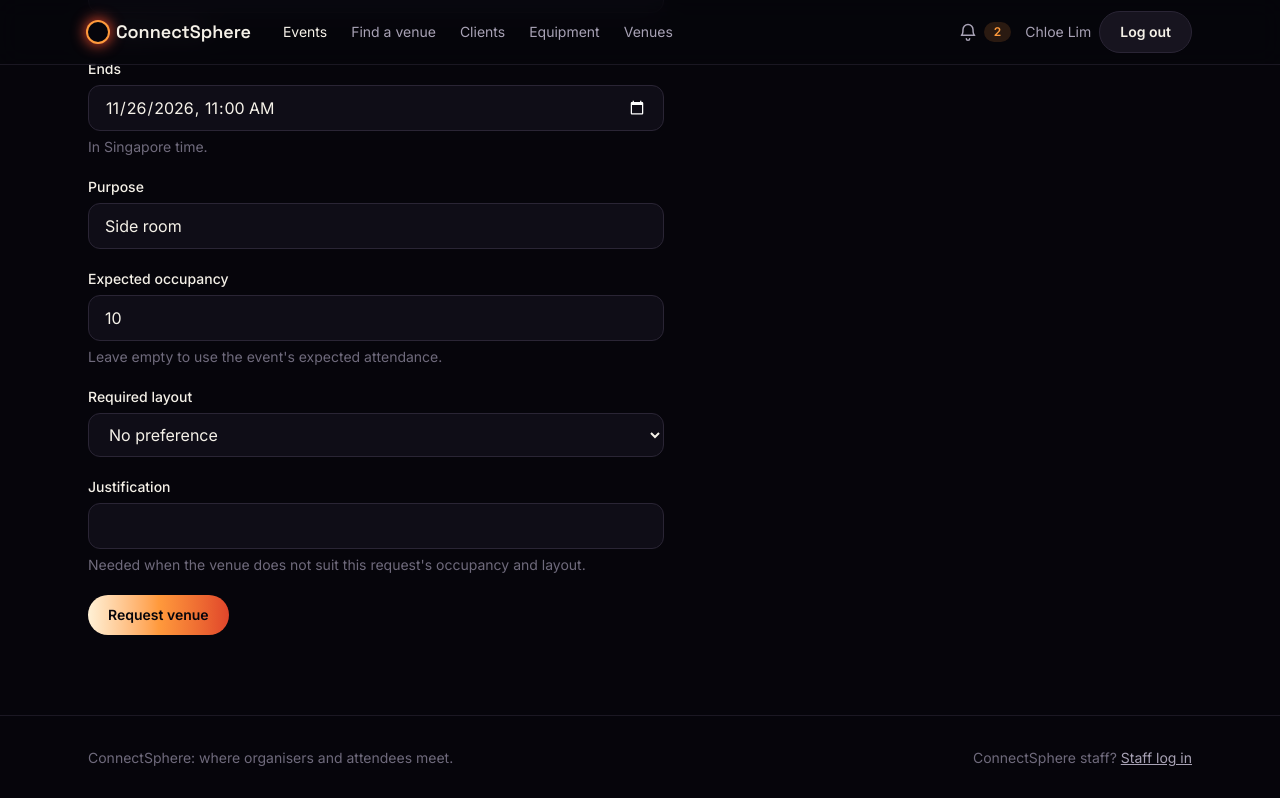
Test: SCRUM-92 raising a replacement for a flagged arrangement (AC6) › shows the backend’s refusal of an arrangement that needs no alternative venue
(page scrolled)
Click the button "Request venue": [158, 615] box x1=88 y1=595 x2=229 y2=635
(page scrolled)
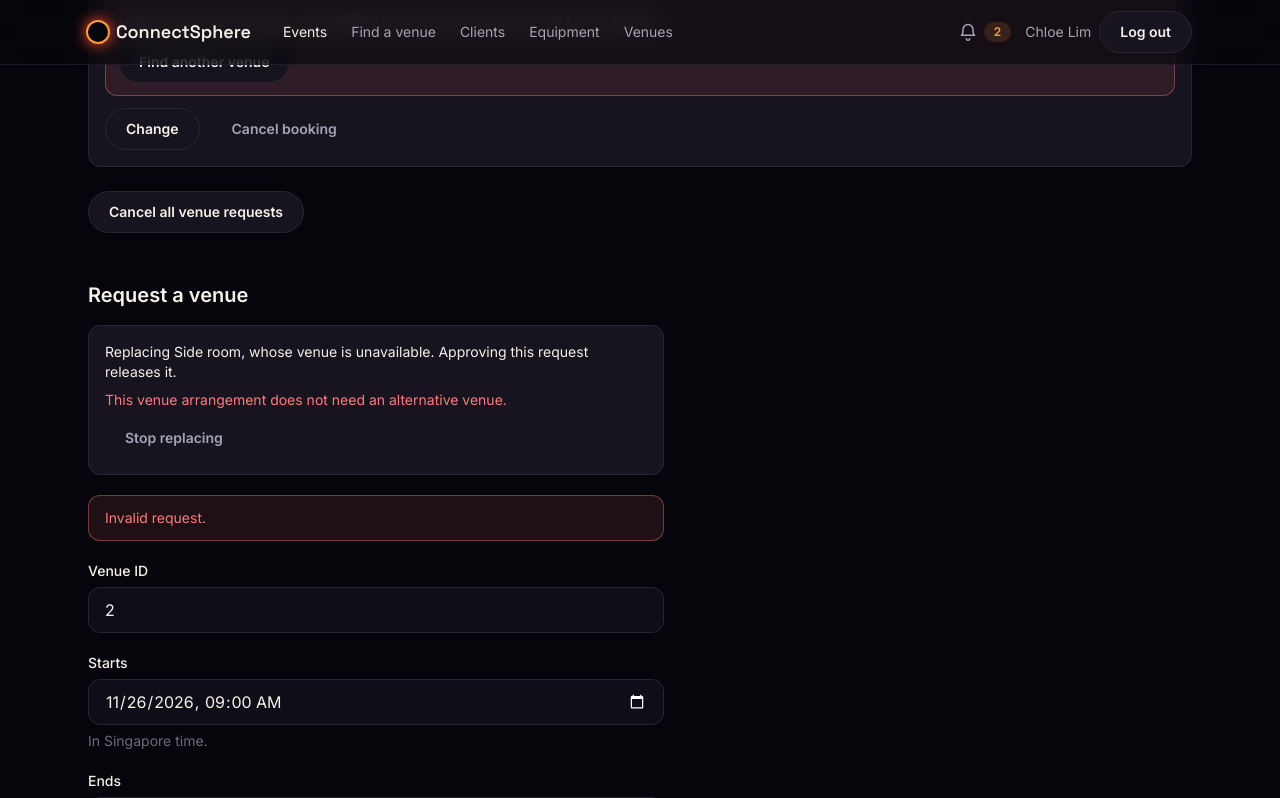
Now the list item "This venue arrangement does not need an alternative venue." is shown, box x1=105 y1=391 x2=507 y2=408
